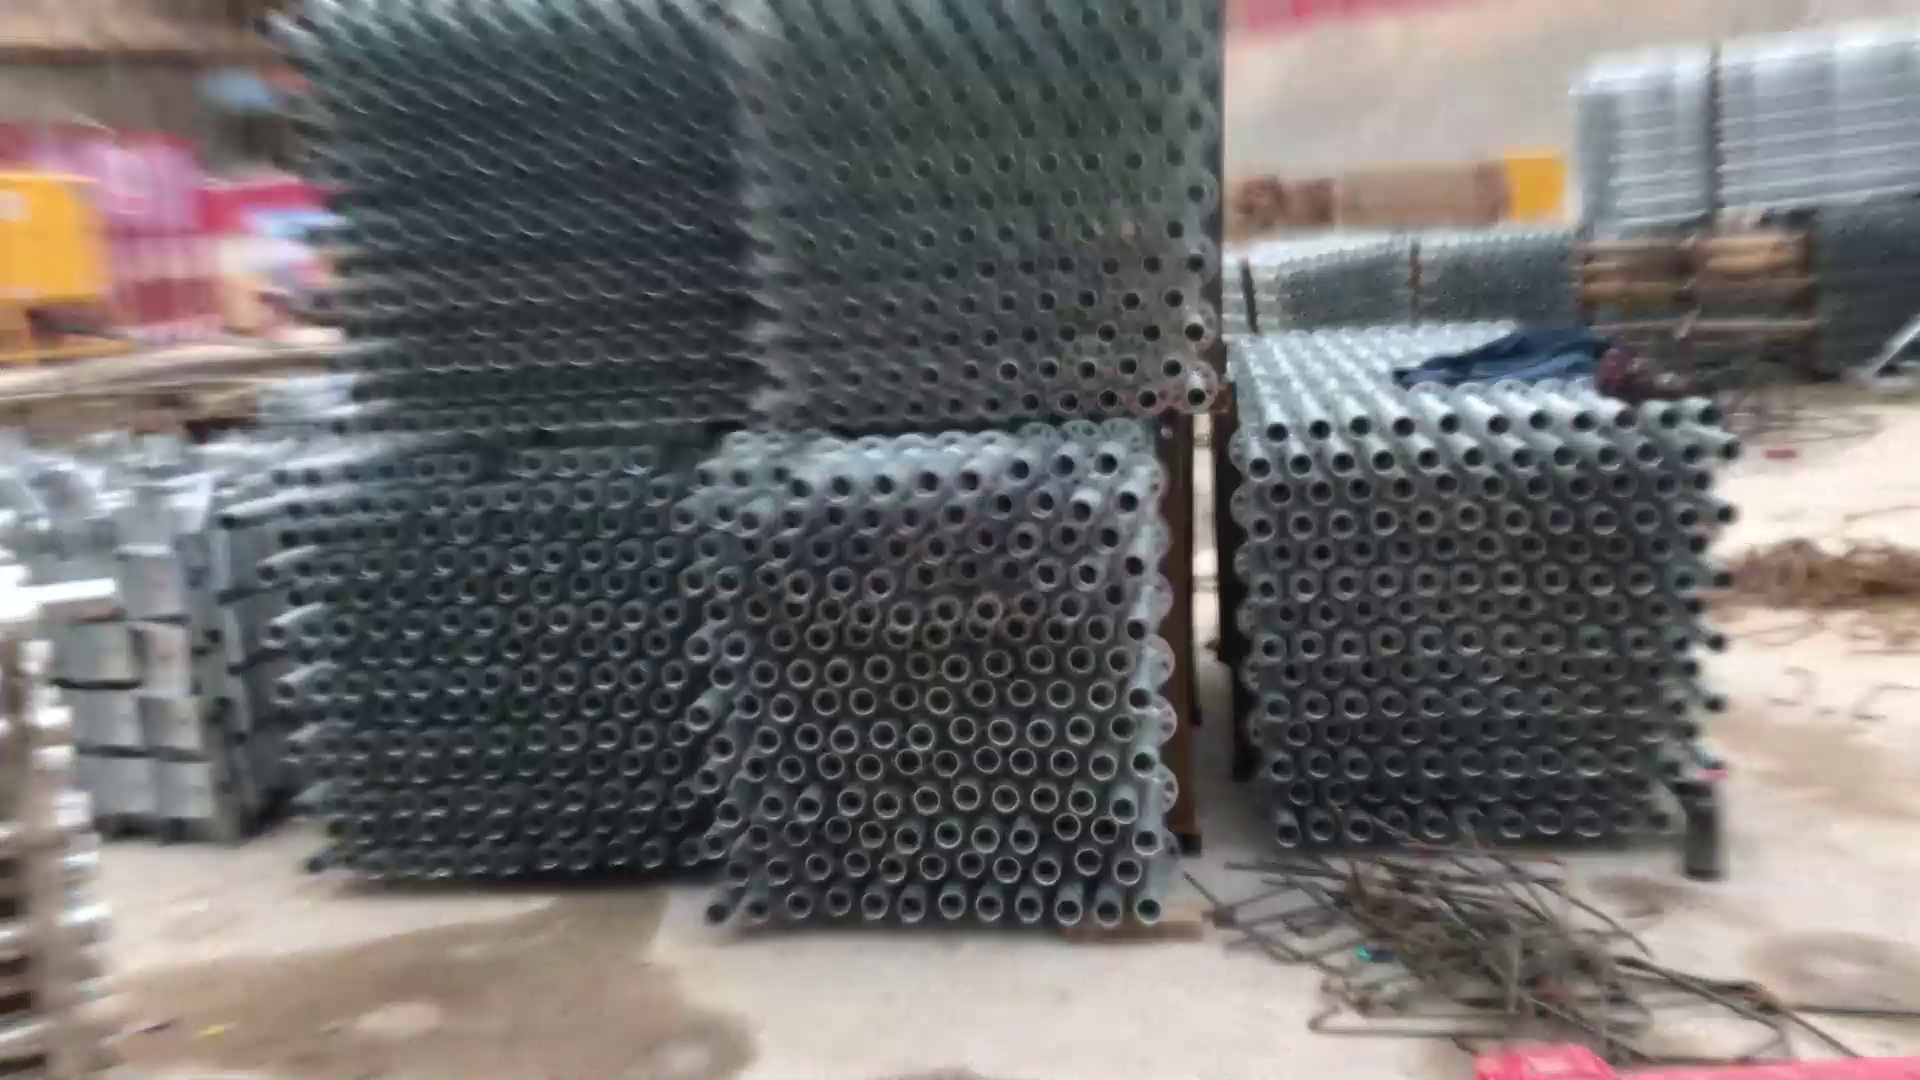scaffold: (698, 433, 1204, 967), (1240, 364, 1741, 868)
